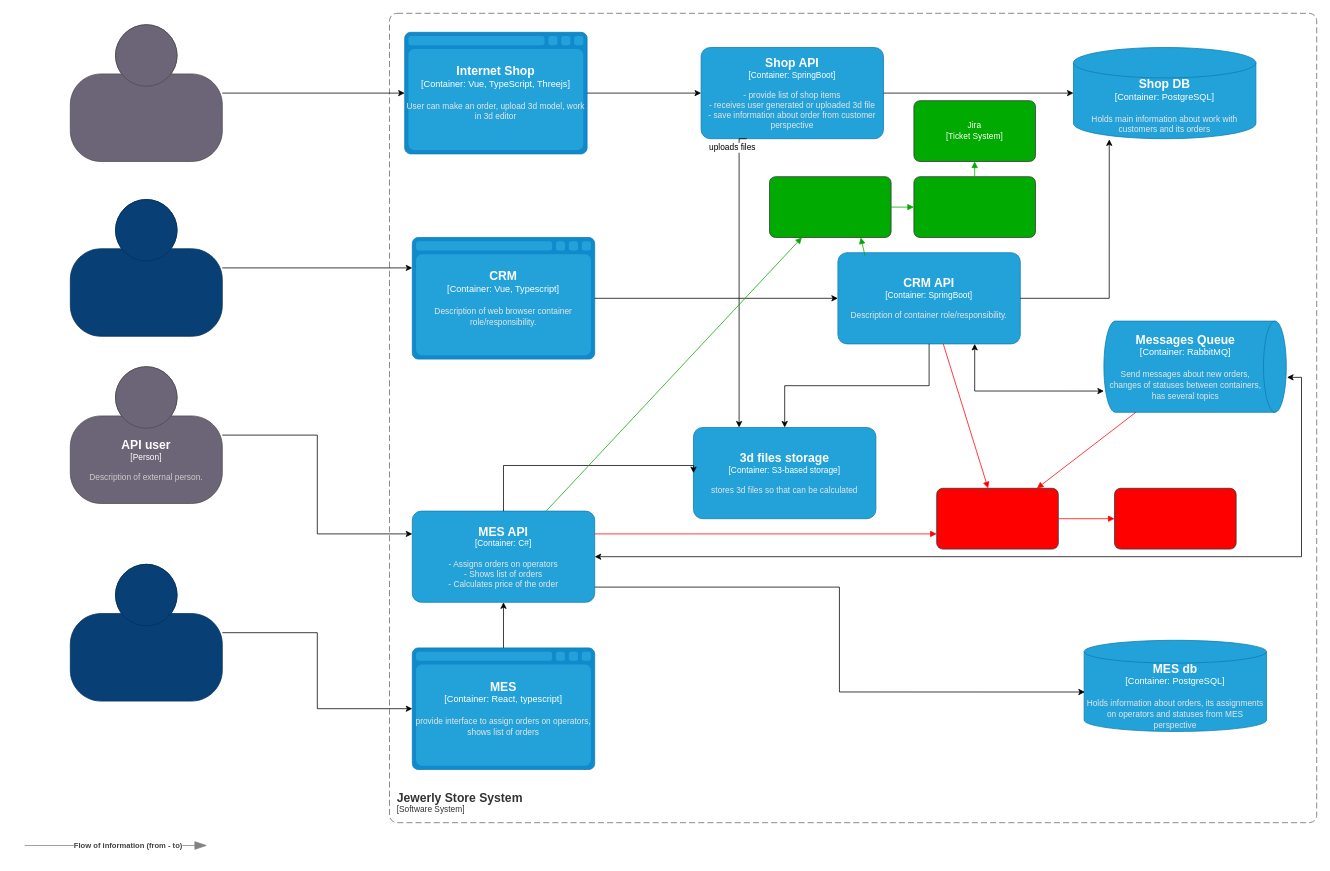
Some shapes in this 1330 by 871 pixel diagram are drawn without their labels. Here are the shapes that lost their labels. From the top down, the centre of each, then its label:
At point (146, 93): "Customer [Person] Description of external person.".
At point (830, 207): "Prometheus [Monitoring]".
At point (974, 207): "Grafana [Visualization]".
At point (146, 267): "Seller [Person] Operates with order, confirms manufacturing for the user".
At point (997, 518): "OpenTelemetry [SDK]".
At point (1175, 518): "Jaeger [Tracing Storage]".
At point (146, 632): "Operator [Person] Takes order in work, manufactures jewerly".
